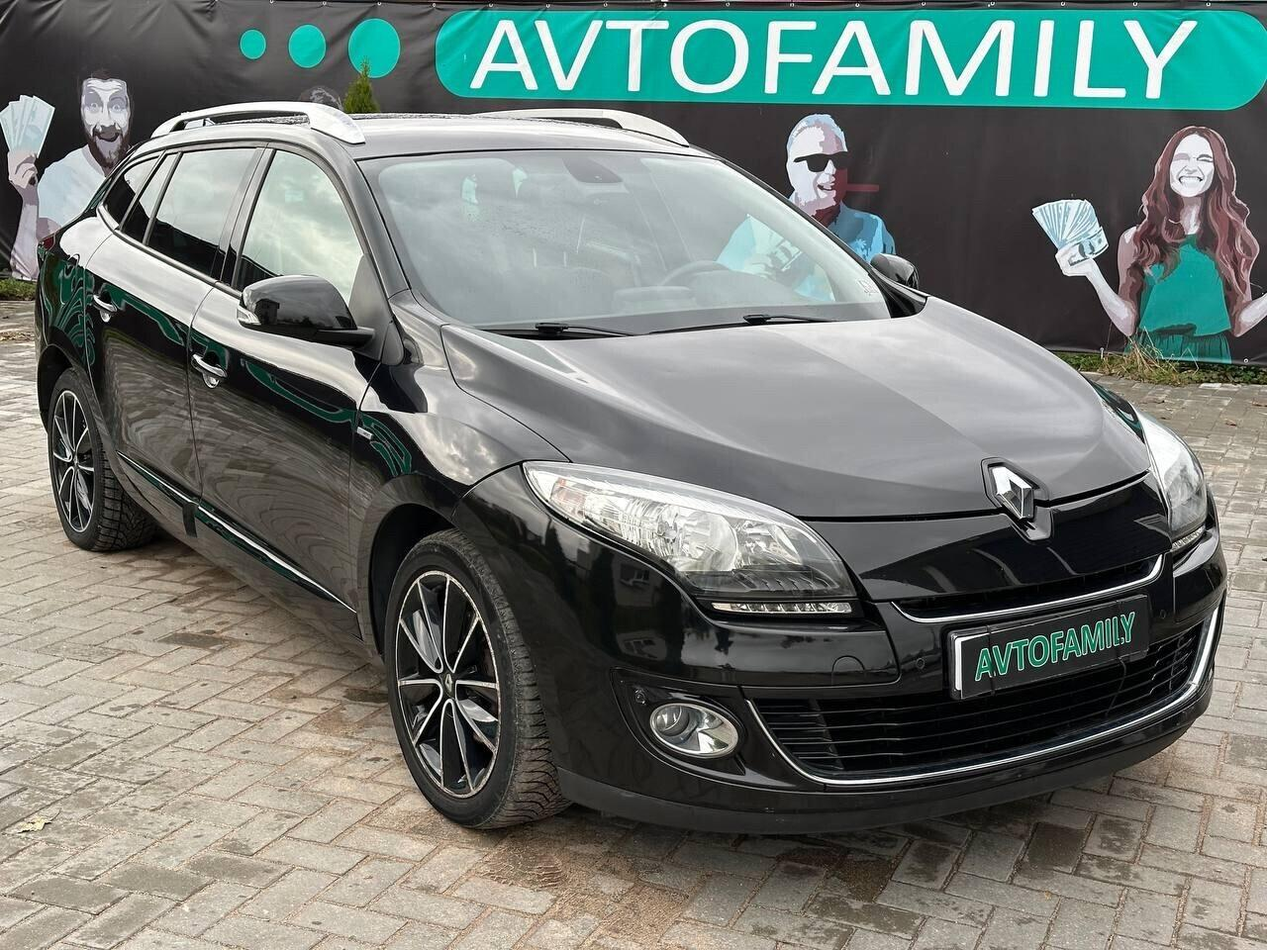Megane_2012-2014: (28, 101, 1230, 837)
